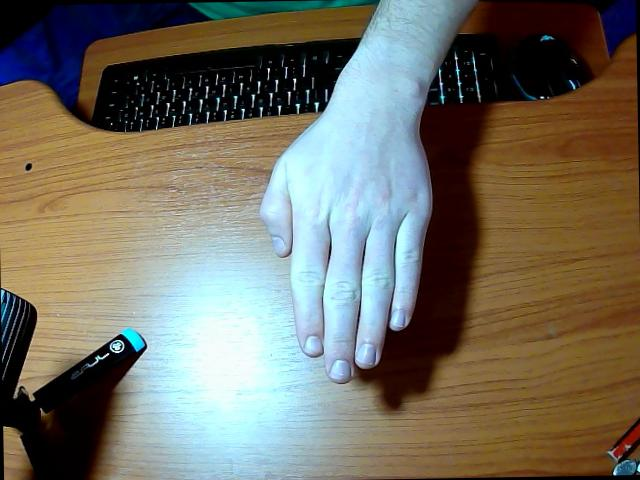paper: (261, 0, 477, 382)
